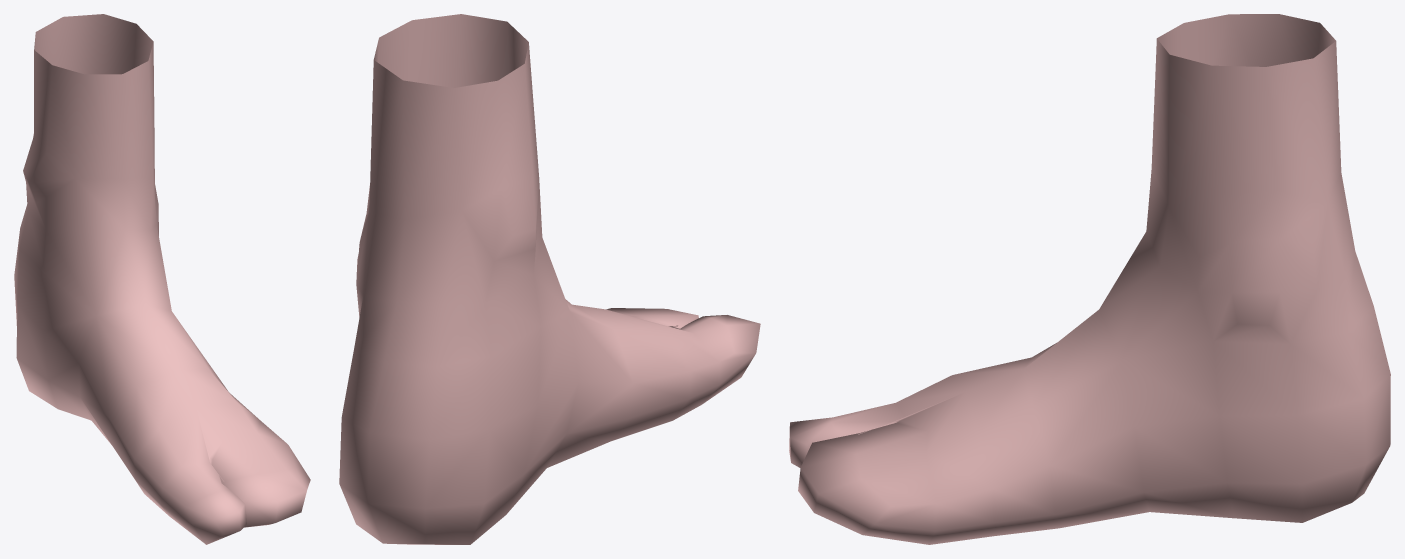
Rendered from Superhero_Female_A_Foot03.fbx.
3 renders of one model, left to right at view 1: azimuth 30°, elevation 25°; view 2: azimuth 150°, elevation 25°; view 3: azimuth 270°, elevation 25°, orthographic. The views are drawn at different scales.
Visible parts, largest first — view 1: Superhero_Female_A_Foot03; view 2: Superhero_Female_A_Foot03; view 3: Superhero_Female_A_Foot03.
Part boxes in pixels (x1,y1,x2,y2): Superhero_Female_A_Foot03: (14,14,310,544); Superhero_Female_A_Foot03: (339,14,760,544); Superhero_Female_A_Foot03: (789,14,1390,544).
Bounding box in the file's own units: 0.5806 × 1.4 × 1.61.
